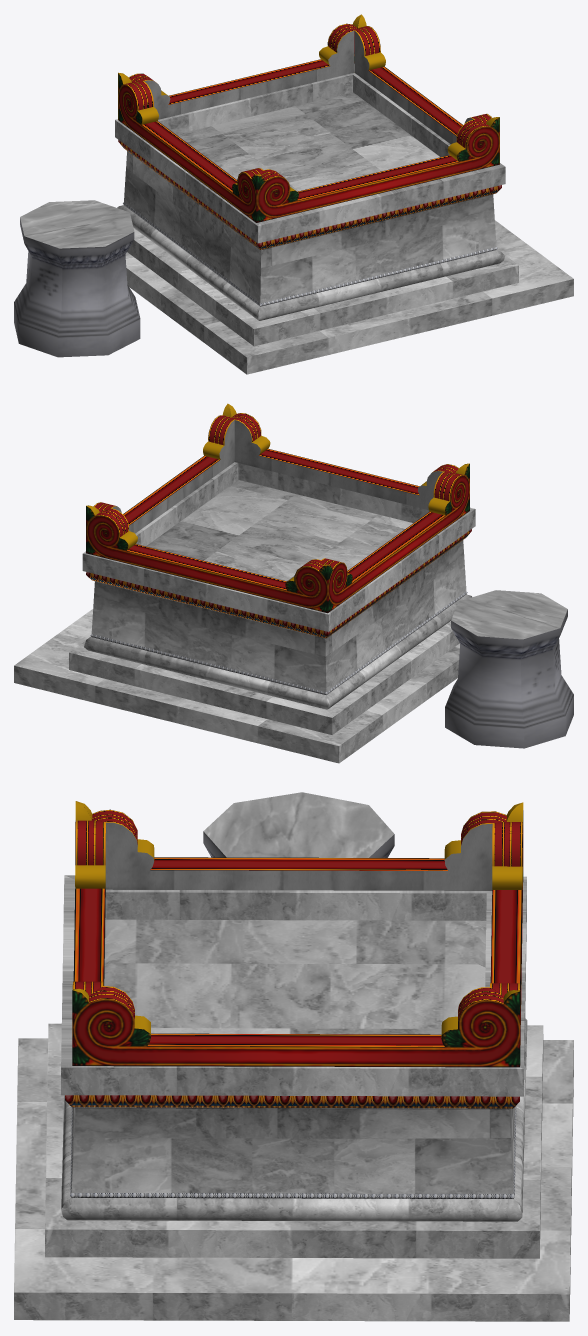
Rendered from Delphinion_Altar.glb.
The picture shows the model from 3 angles, top to bottom: view 1: azimuth 30°, elevation 25°; view 2: azimuth 150°, elevation 25°; view 3: azimuth 270°, elevation 25°; orthographic projection. The views are drawn at different scales.
Visible parts, largest first — view 1: Delfinio_Main006; view 2: Delfinio_Main006; view 3: Delfinio_Main006.
Boxes of the visible parts, <box> form: Delfinio_Main006: <box>14,14,573,374</box>; Delfinio_Main006: <box>14,403,573,763</box>; Delfinio_Main006: <box>14,792,573,1321</box>.
Size of the model in its own units: 6.31 by 2.32 by 4.1.
Materials: 18 (16 with a texture image).
